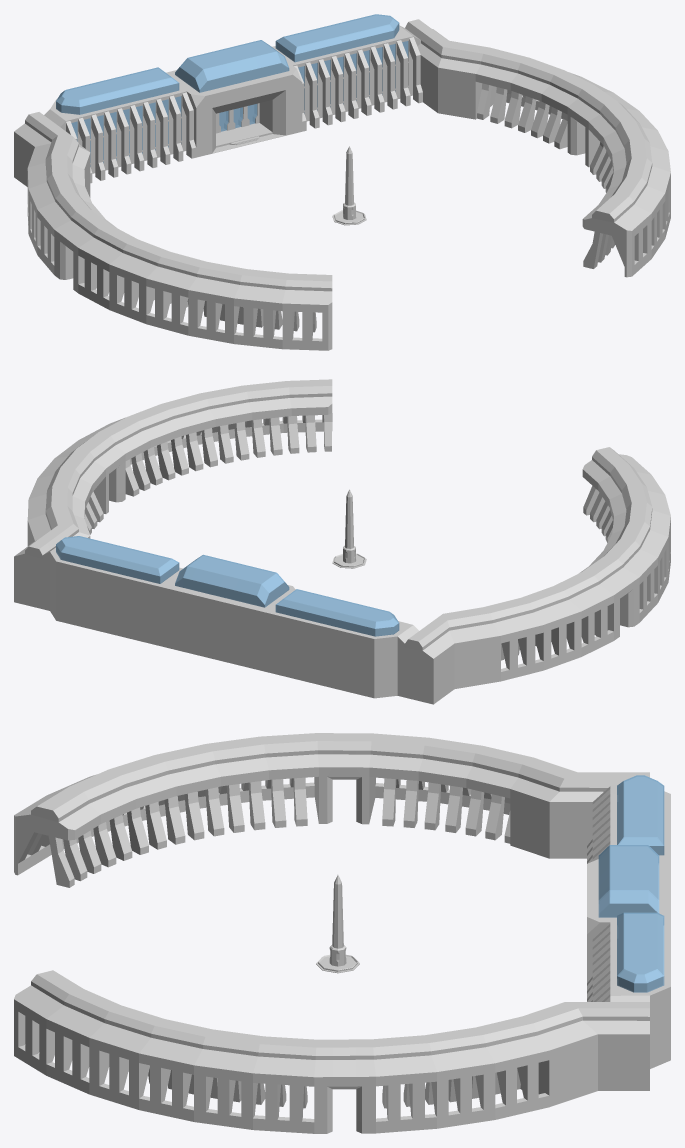
Rendered from MinistryBuilding.fbx.
3 views of the same model, one above another, from view 1: azimuth 30°, elevation 25°; view 2: azimuth 150°, elevation 25°; view 3: azimuth 270°, elevation 25° (orthographic). The views are drawn at different scales.
Parts seen in each view (by area): view 1: MinistryExterior, MinistryBuilding; view 2: MinistryExterior, MinistryBuilding; view 3: MinistryExterior, MinistryBuilding.
Boxes of the visible parts, left/top/right/bottom form: MinistryExterior: left=14, top=19, right=670, bottom=350; MinistryBuilding: left=44, top=14, right=422, bottom=183; MinistryExterior: left=14, top=379, right=670, bottom=704; MinistryBuilding: left=37, top=536, right=418, bottom=698; MinistryExterior: left=14, top=733, right=649, bottom=1133; MinistryBuilding: left=587, top=775, right=670, bottom=1068.
Size of the model in its own units: 25839 by 3423 by 21113.
